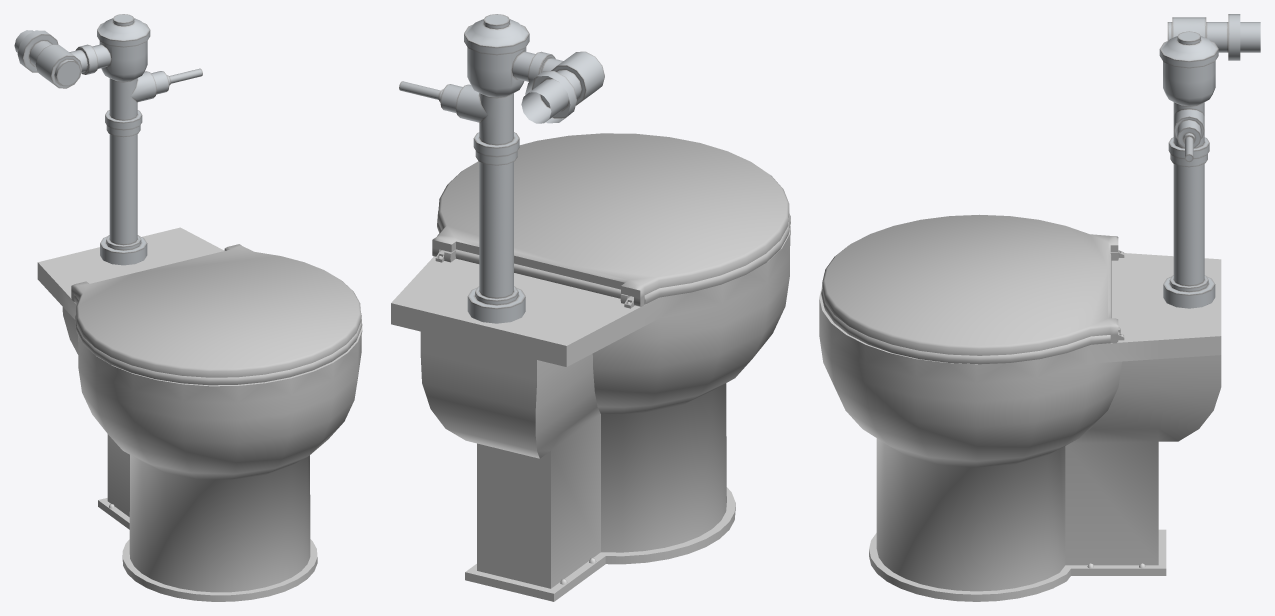
Rendered from Toilet_Round_C.fbx.
3 views of the same model, side by side, from view 1: azimuth 30°, elevation 25°; view 2: azimuth 150°, elevation 25°; view 3: azimuth 270°, elevation 25° (orthographic). The views are drawn at different scales.
Visible parts, largest first — view 1: Toilet_Round_C, Toilet_Round_C_Seat_Cover, Toilet_Round_C_Seat; view 2: Toilet_Round_C, Toilet_Round_C_Seat_Cover, Toilet_Round_C_Seat; view 3: Toilet_Round_C, Toilet_Round_C_Seat_Cover, Toilet_Round_C_Seat.
Part boxes in pixels (left/top/right/bottom): Toilet_Round_C: left=14, top=14, right=362, bottom=601; Toilet_Round_C_Seat_Cover: left=71, top=244, right=360, bottom=377; Toilet_Round_C_Seat: left=74, top=295, right=362, bottom=385; Toilet_Round_C: left=391, top=14, right=790, bottom=601; Toilet_Round_C_Seat_Cover: left=432, top=133, right=789, bottom=306; Toilet_Round_C_Seat: left=435, top=210, right=790, bottom=308; Toilet_Round_C: left=819, top=14, right=1260, bottom=601; Toilet_Round_C_Seat_Cover: left=822, top=214, right=1118, bottom=355; Toilet_Round_C_Seat: left=821, top=250, right=1124, bottom=364.
Size of the model in its own units: 42.25 by 76.37 by 58.76.
